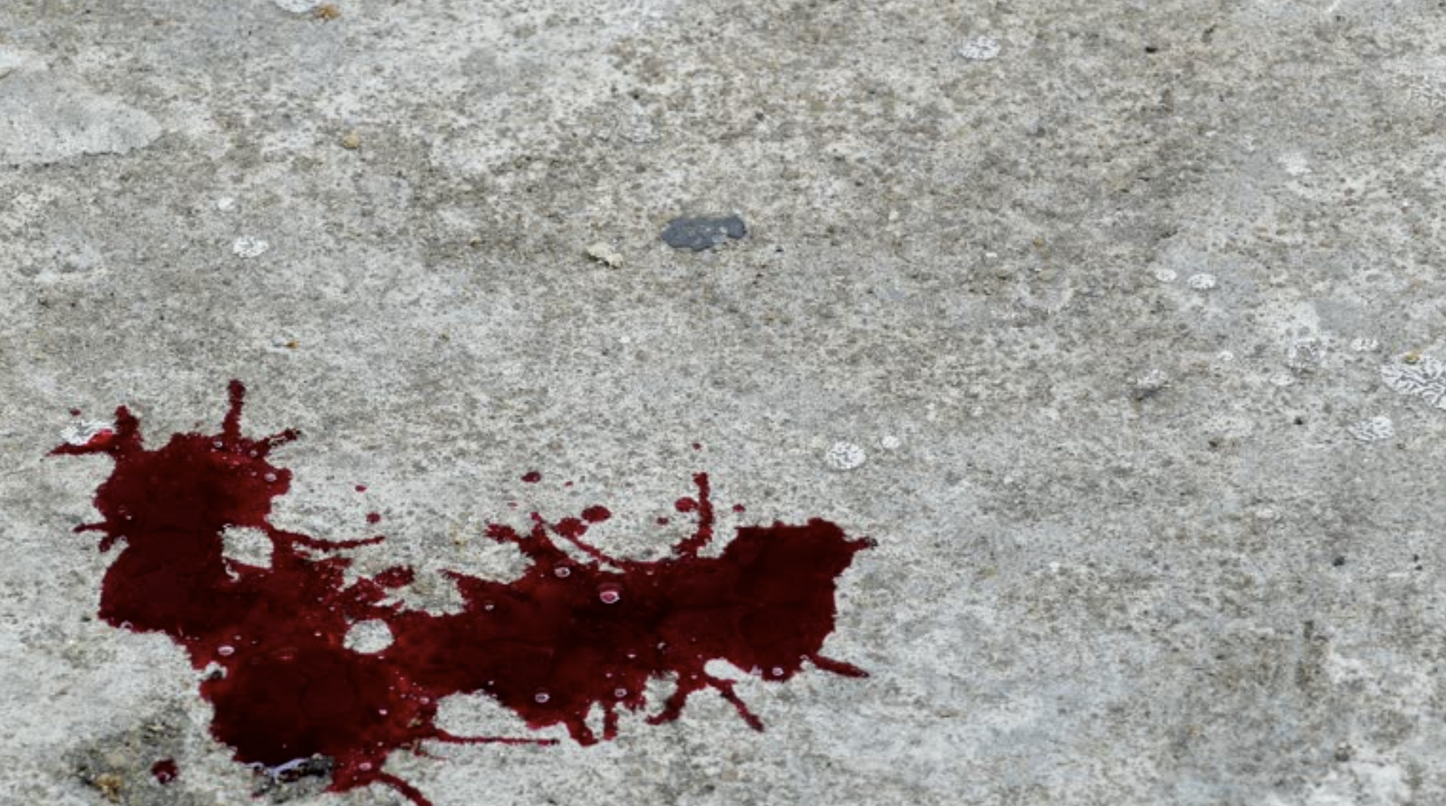blood_30.png: (15, 350, 910, 800)
